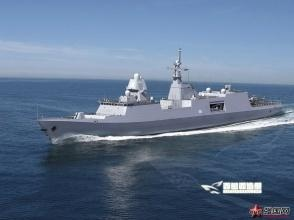warship: (35, 59, 287, 146)
